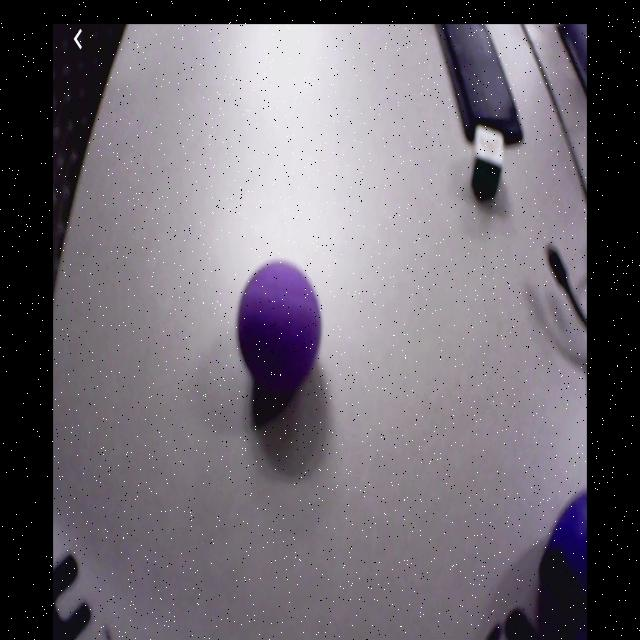ball: (238, 261, 322, 386), (552, 496, 589, 616)
